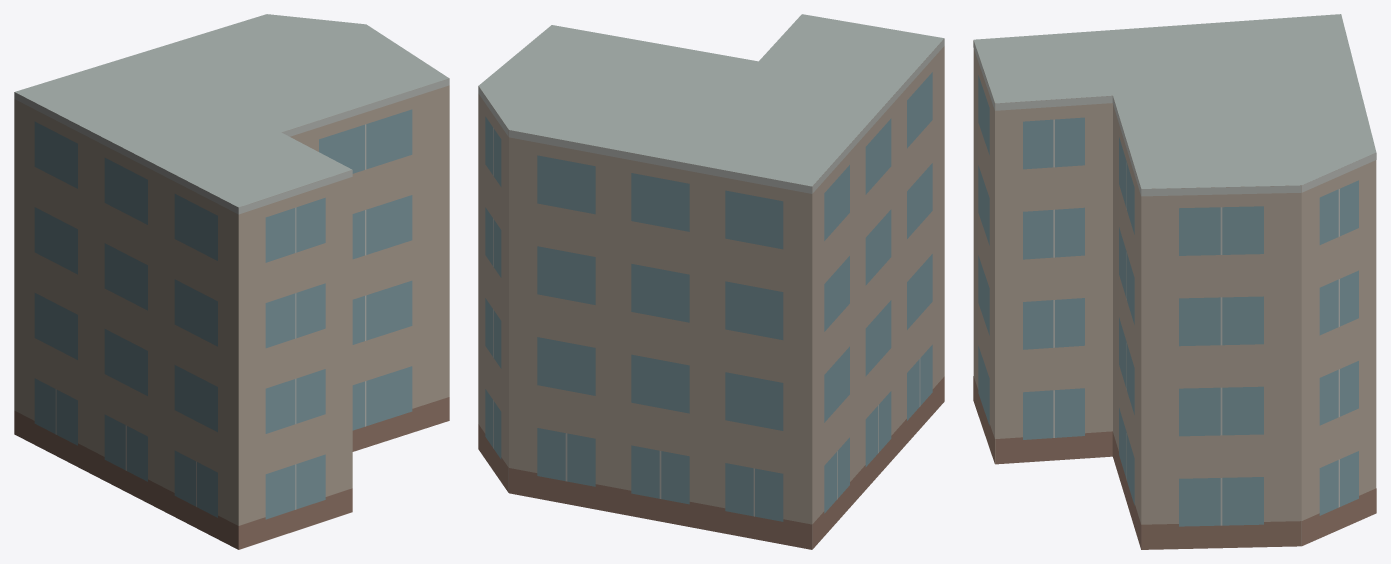
Rendered from survey-upis-32959224.glb.
3 views of the same model, side by side, from view 1: azimuth 30°, elevation 25°; view 2: azimuth 150°, elevation 25°; view 3: azimuth 270°, elevation 25° (orthographic). The views are drawn at different scales.
Visible parts, largest first — view 1: survey-upis-32959224.tmp; view 2: survey-upis-32959224.tmp; view 3: survey-upis-32959224.tmp.
Part boxes in pixels (<box>): survey-upis-32959224.tmp: <box>14,14,449,549</box>; survey-upis-32959224.tmp: <box>478,14,944,549</box>; survey-upis-32959224.tmp: <box>973,14,1376,549</box>.
Bounding box in the file's own units: 12.39 × 11.9 × 12.06.
